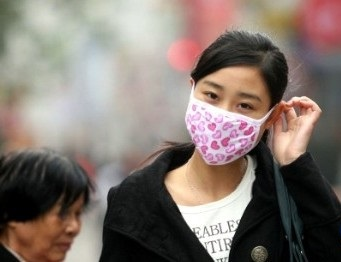face: (32, 181, 84, 260)
face_mask: (190, 58, 270, 157)
